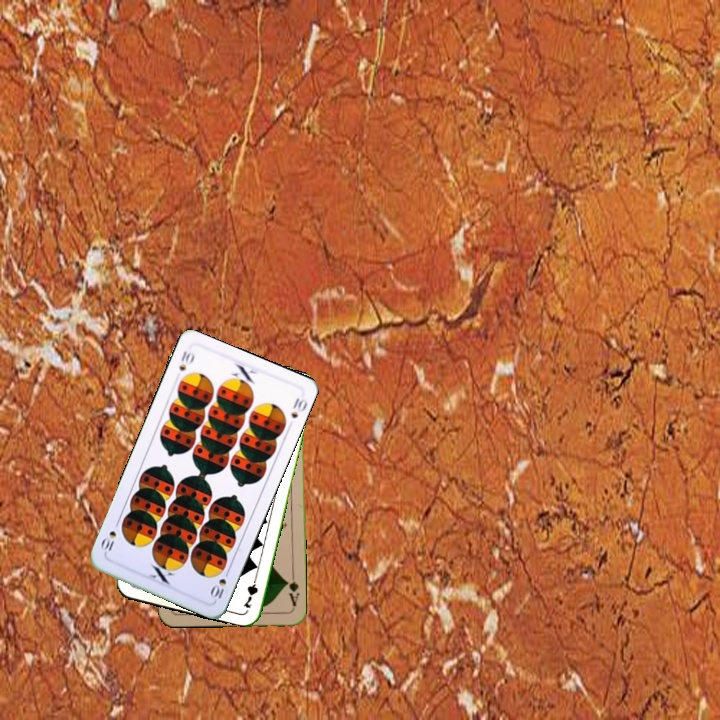G7: (239, 571, 261, 611)
GA: (282, 570, 302, 610)
S10: (206, 565, 233, 604), (175, 347, 197, 374)
